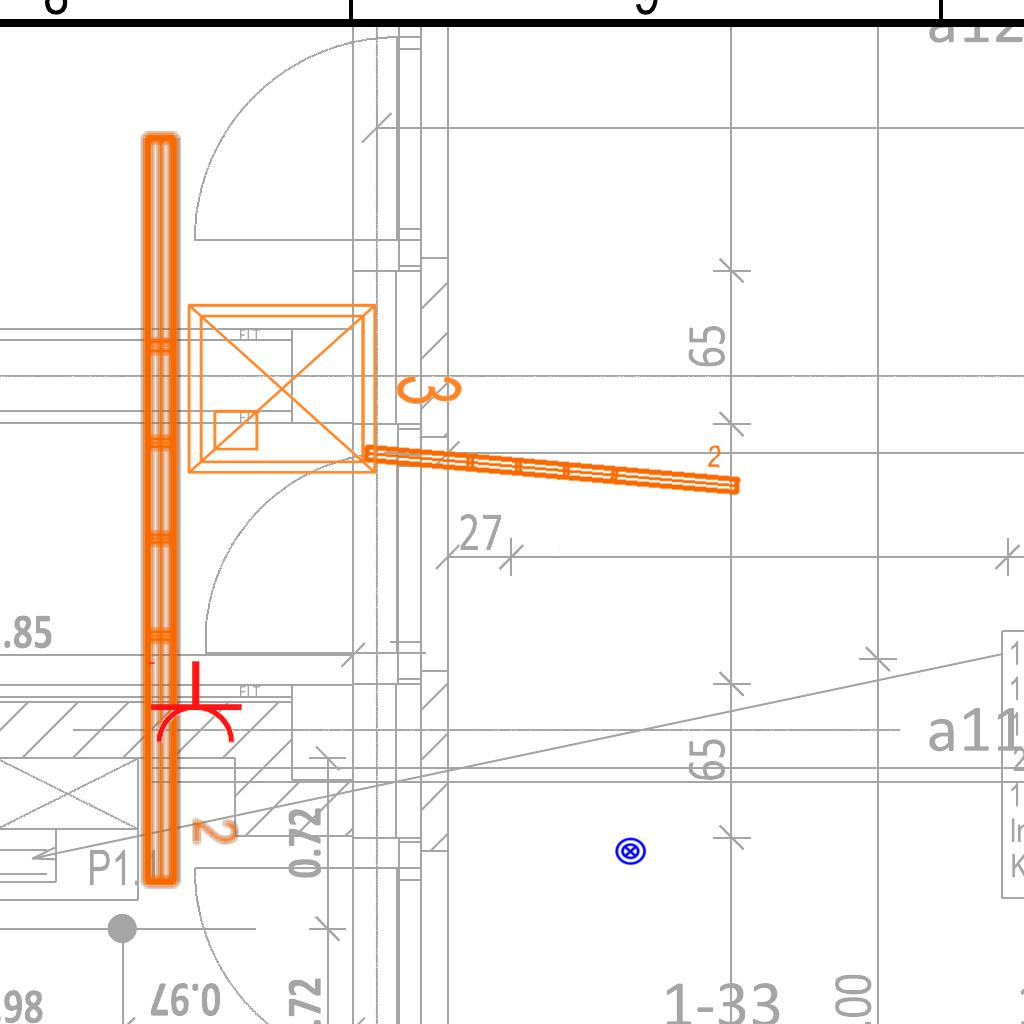Ambulanz_Pendelleuchte_LED: (130, 122, 242, 896), (357, 412, 748, 502)
Einbaudownlights_LED_Konferenzraeume: (173, 281, 473, 489)
Schukosteckdose_einfach: (144, 659, 244, 746)
Taster_beleuchtet: (614, 835, 647, 868)
